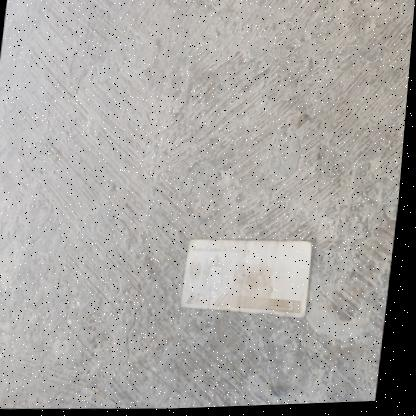five-back-vef: (184, 236, 318, 324)
